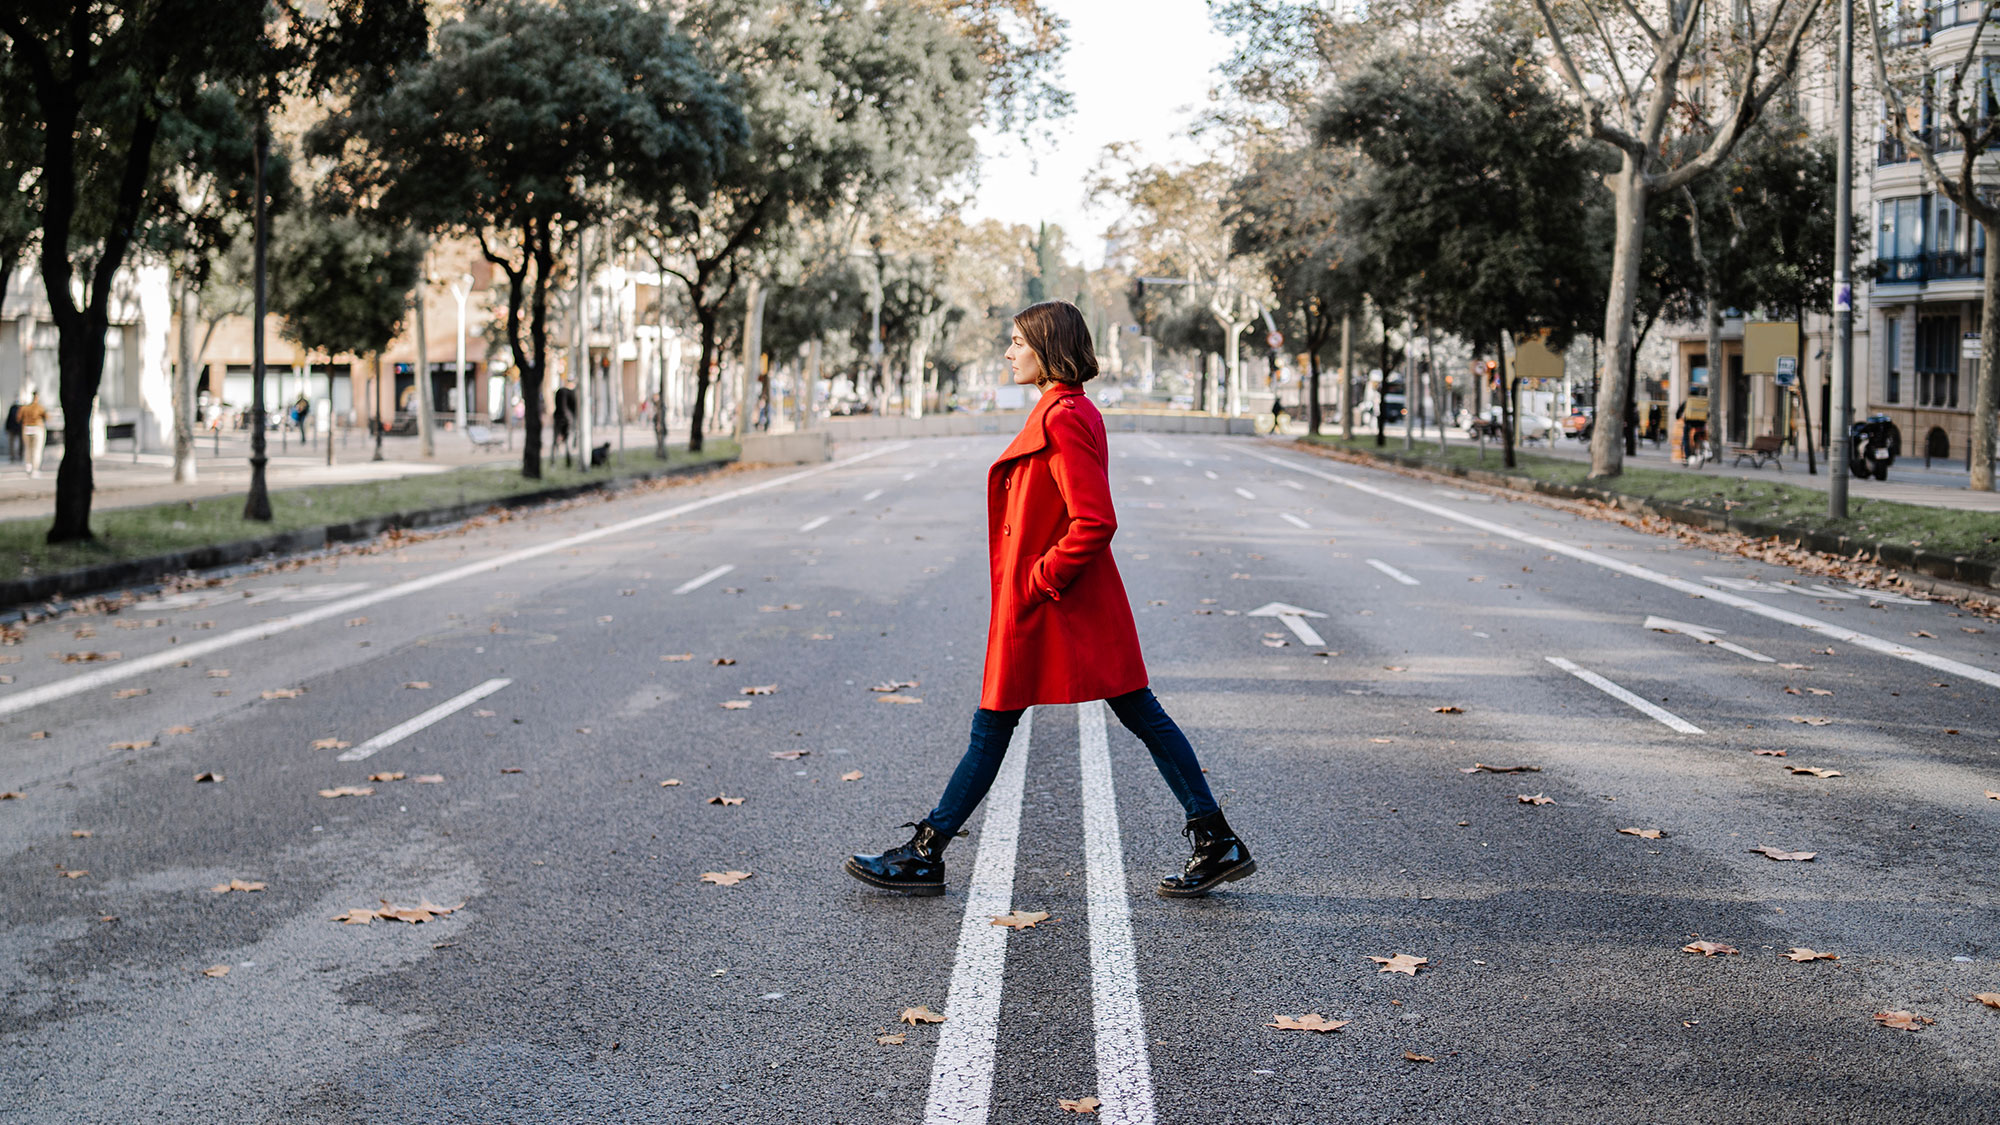motor bike: (1824, 408, 1923, 502)
person: (834, 281, 1265, 920)
